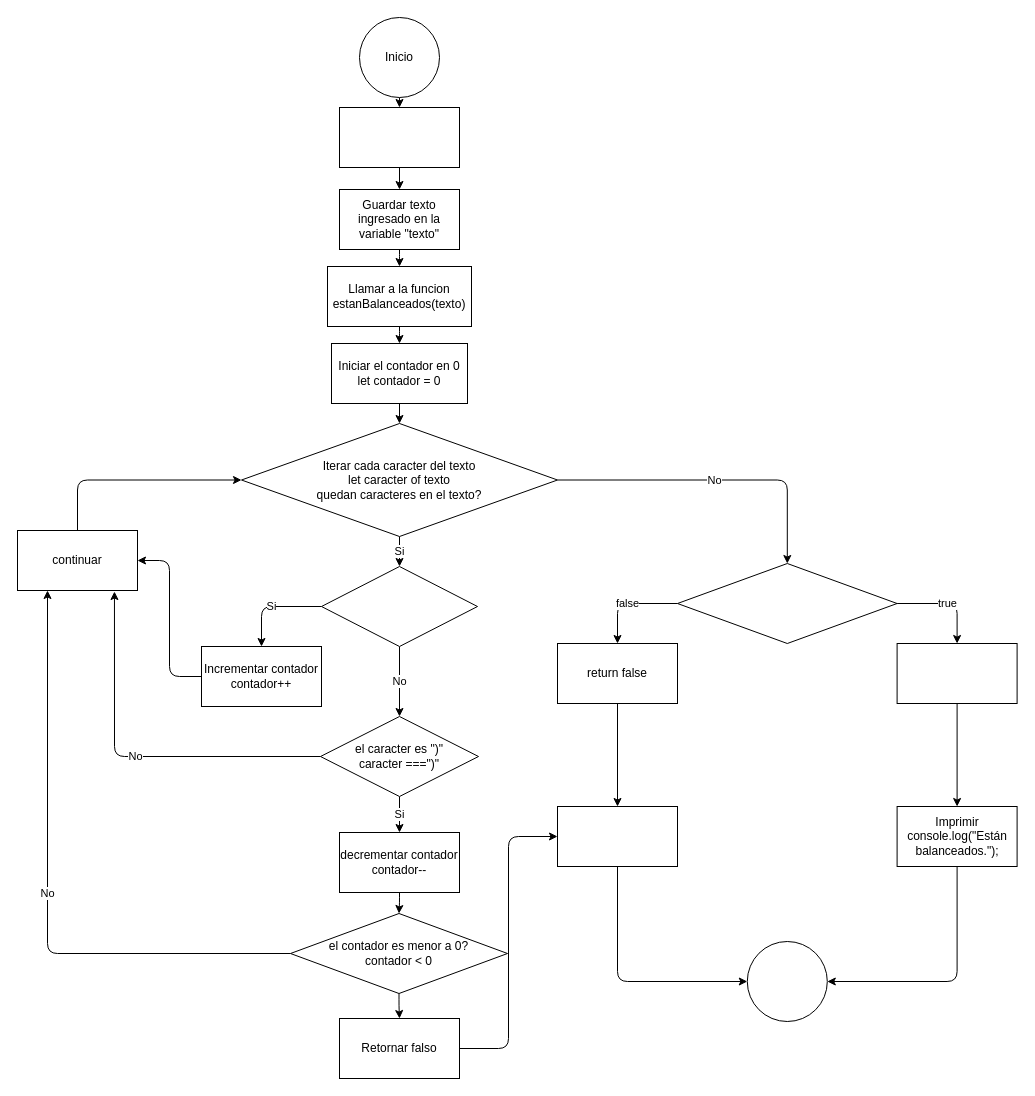
Image size: 1035x1096. Some labels were removed from this diagram. The box of each missing label's shape, as (x1, y1, x2, y2) in pixels:
el caracter es "(" caracter === "(": (320, 566, 478, 646)
el contador es igual a cero? return === 0?: (676, 562, 897, 644)
Fin: (746, 940, 827, 1022)
Imprimir console.log("NO están balanceados.");: (556, 806, 678, 866)
Pedir al usuario que ingrese un texto: (338, 106, 460, 168)
return true: (896, 642, 1017, 704)
